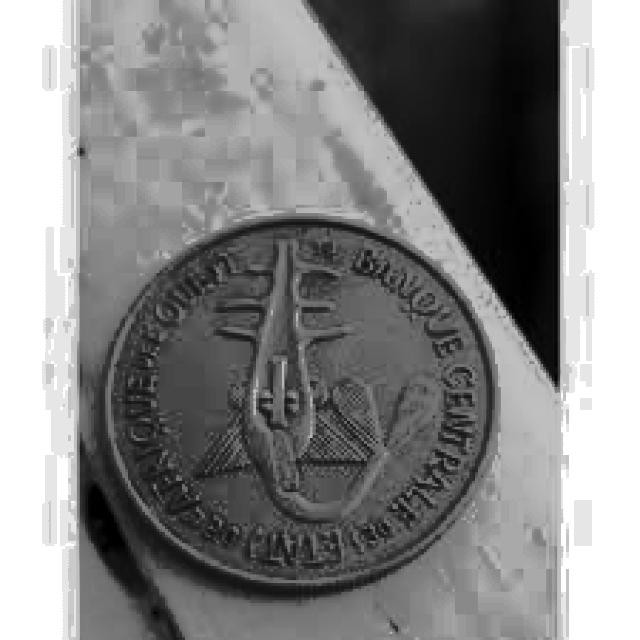fukk: (106, 221, 491, 591)
